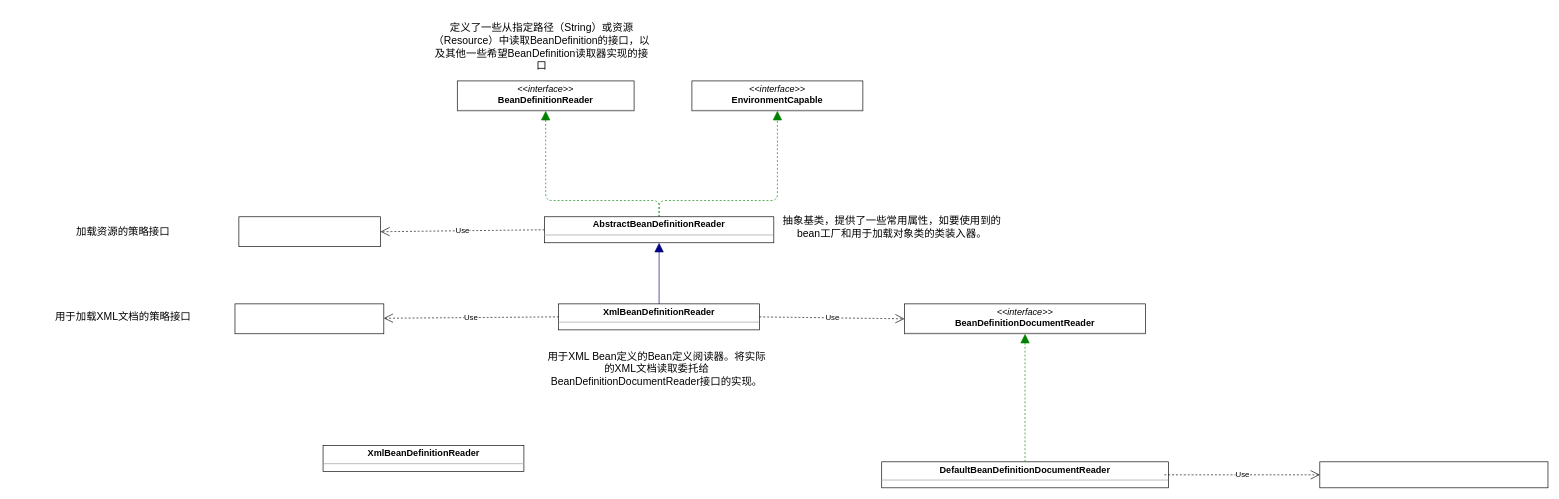
Image size: 1559x499. Some labels were removed from this diagram. The centre of each missing label's shape, as x and y in pixels:
"<<interface>> DocumentLoader" goes at [309,318].
"<<interface>> ResourceLoader" goes at [309,231].
"BeanDefinitionParserDelegate" goes at [1433,474].
